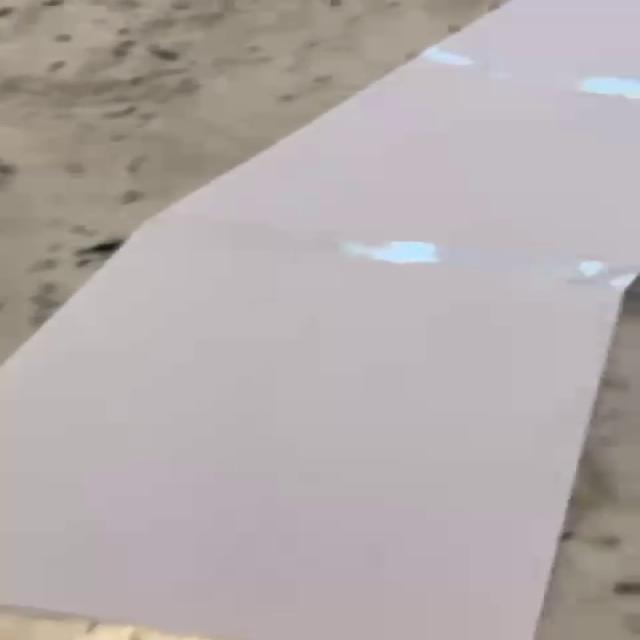road: (0, 0, 640, 640)
